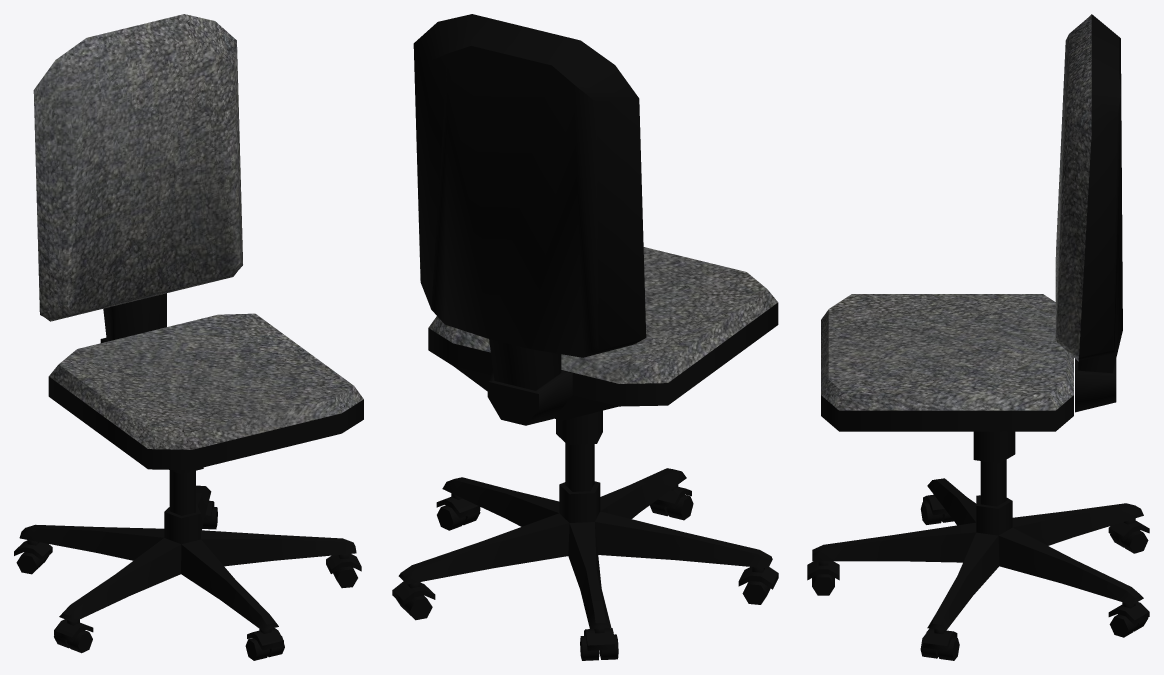
File: chair_5.obj
The picture shows the model from 3 angles, left to right: view 1: azimuth 30°, elevation 25°; view 2: azimuth 150°, elevation 25°; view 3: azimuth 270°, elevation 25°; orthographic projection. The views are drawn at different scales.
Parts seen in each view (by area): view 1: chair_5; view 2: chair_5; view 3: chair_5.
Part boxes in pixels (x1=…): chair_5: x1=14, y1=14, x2=363, y2=660; chair_5: x1=392, y1=14, x2=778, y2=660; chair_5: x1=807, y1=14, x2=1149, y2=660.
Size of the model in its own units: 1.3 by 2.19 by 1.24.
